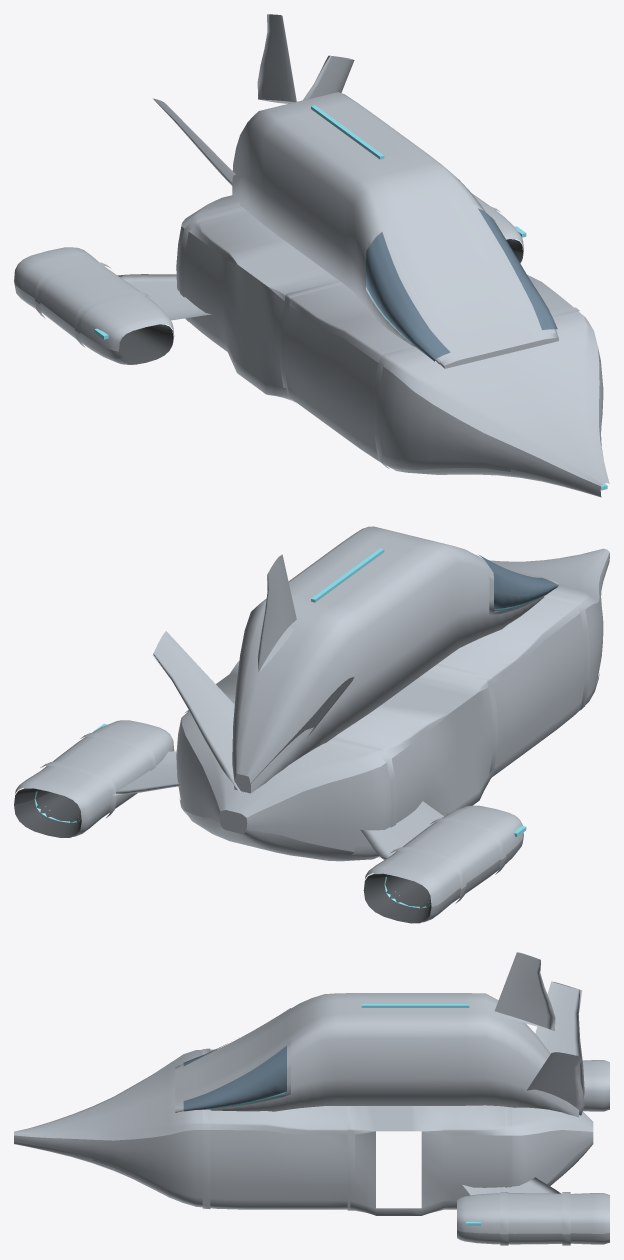
Rendered from kestrel-hull.glb.
3 views of the same model, one above another, from view 1: azimuth 30°, elevation 25°; view 2: azimuth 150°, elevation 25°; view 3: azimuth 270°, elevation 25° (orthographic). The views are drawn at different scales.
Parts seen in each view (by area): view 1: hull, accent, trim, glass, dark, glow; view 2: hull, accent, trim, dark, glass, glow; view 3: hull, accent, trim, glass, glow.
Part boxes in pixels (x1,y1,x2,y2): hull: [176, 92, 609, 497]; accent: [14, 14, 523, 364]; trim: [35, 205, 579, 471]; glass: [366, 208, 557, 361]; dark: [119, 239, 522, 364]; glow: [94, 105, 607, 490]; hull: [176, 526, 609, 861]; accent: [15, 554, 523, 922]; trim: [40, 555, 599, 903]; dark: [14, 788, 431, 923]; glass: [478, 554, 557, 608]; glow: [34, 548, 544, 908]; hull: [14, 993, 593, 1212]; accent: [457, 952, 609, 1244]; trim: [92, 1008, 570, 1245]; glass: [183, 1043, 286, 1111]; glow: [198, 1004, 480, 1225].
Bounding box in the file's own units: 9.26 × 6.13 × 14.4.
